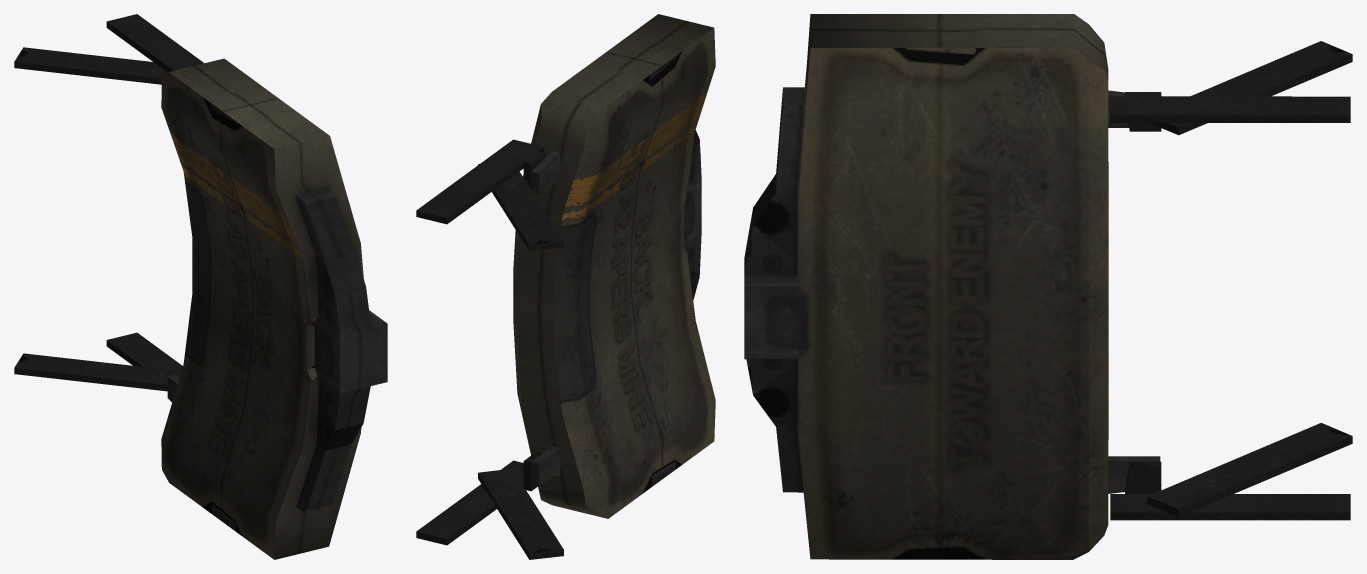
Rendered from t6_wpn_claymore_world_LOD2.obj.
The picture shows the model from 3 angles, left to right: view 1: azimuth 30°, elevation 25°; view 2: azimuth 150°, elevation 25°; view 3: azimuth 270°, elevation 25°; orthographic projection. The views are drawn at different scales.
Parts seen in each view (by area): view 1: mtl_t6_wpn_claymore; view 2: mtl_t6_wpn_claymore; view 3: mtl_t6_wpn_claymore.
Part boxes in pixels (left/top/right/bottom): mtl_t6_wpn_claymore: left=14, top=14, right=387, bottom=559; mtl_t6_wpn_claymore: left=416, top=14, right=715, bottom=559; mtl_t6_wpn_claymore: left=744, top=14, right=1352, bottom=559.
Size of the model in its own units: 10.35 by 28.35 by 30.5.
